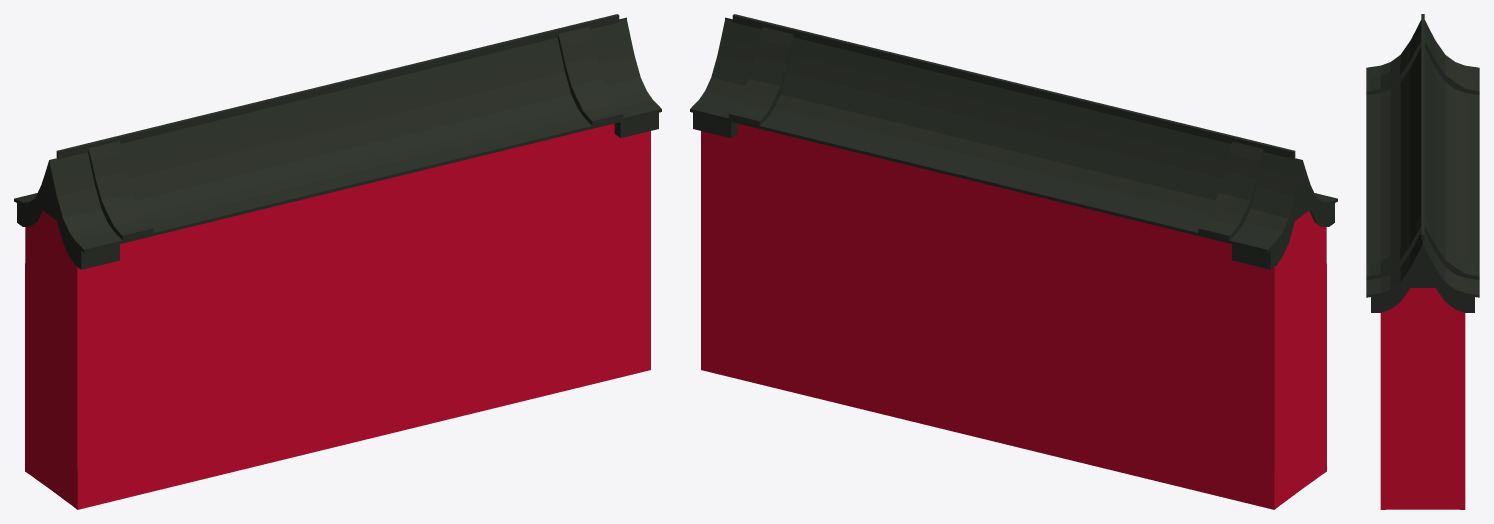
Rendered from akamonWall.obj.
3 views of the same model, side by side, from view 1: azimuth 30°, elevation 25°; view 2: azimuth 150°, elevation 25°; view 3: azimuth 270°, elevation 25° (orthographic). The views are drawn at different scales.
Visible parts, largest first — view 1: 円柱.002; view 2: 円柱.002; view 3: 円柱.002.
Part boxes in pixels (x1,y1,x2,y2): 円柱.002: [14, 14, 661, 509]; 円柱.002: [690, 14, 1337, 509]; 円柱.002: [1366, 14, 1479, 509].
Size of the model in its own units: 14.11 by 7.88 by 2.96.
2 materials, 2 textured.
